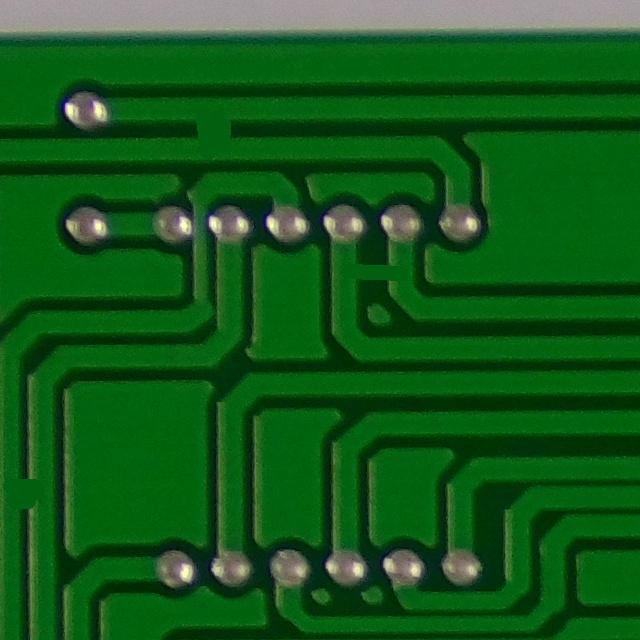short: (180, 92, 251, 163), (331, 251, 412, 305), (0, 459, 64, 524)
